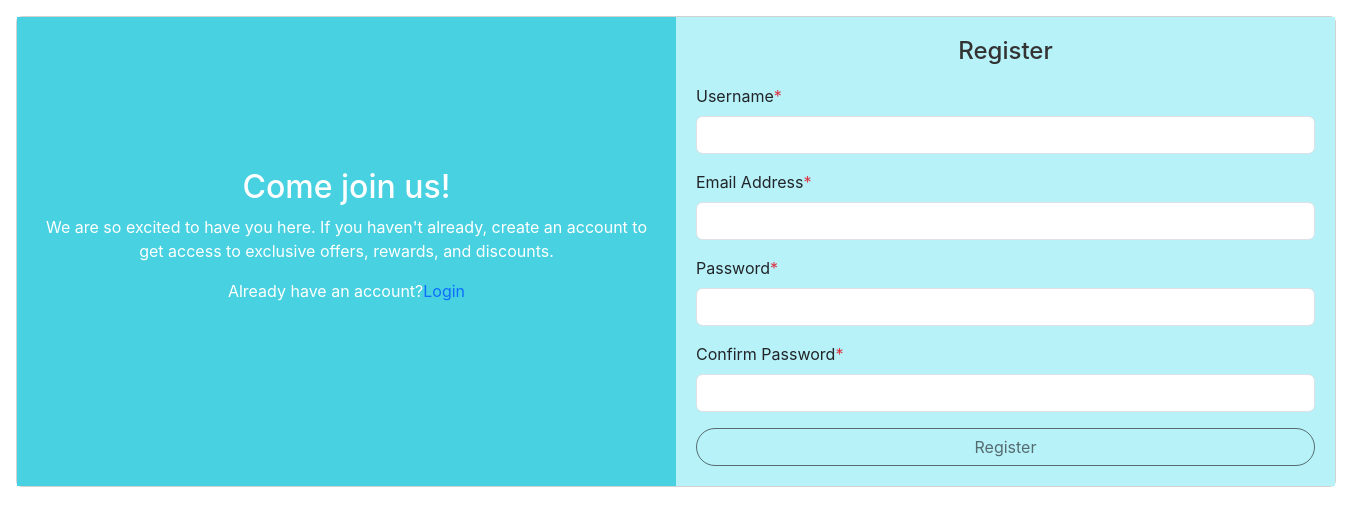
Test: Register component › displays error message if passwords do not match
This screenshot has width=1353, height=529.
Type "validPassword1" into the password field labelled "Password*". click: (1006, 307)
box: left=696, top=288, right=1315, bottom=326
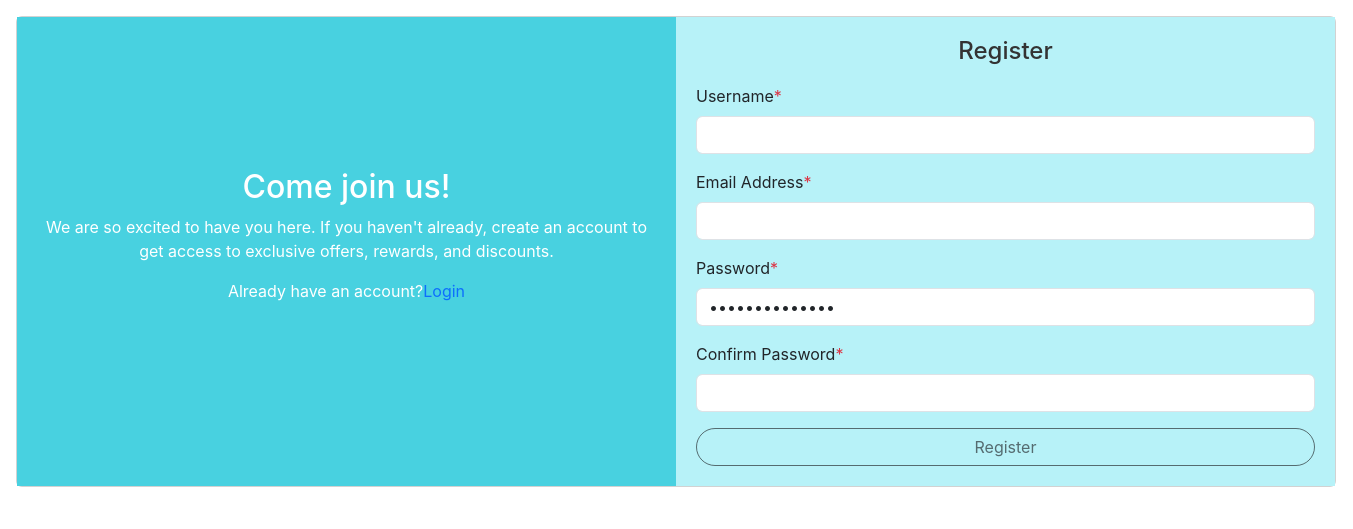
Type "passwordMismatch" into the password field labelled "Confirm Password*". click: (1006, 393)
box: left=696, top=374, right=1315, bottom=412
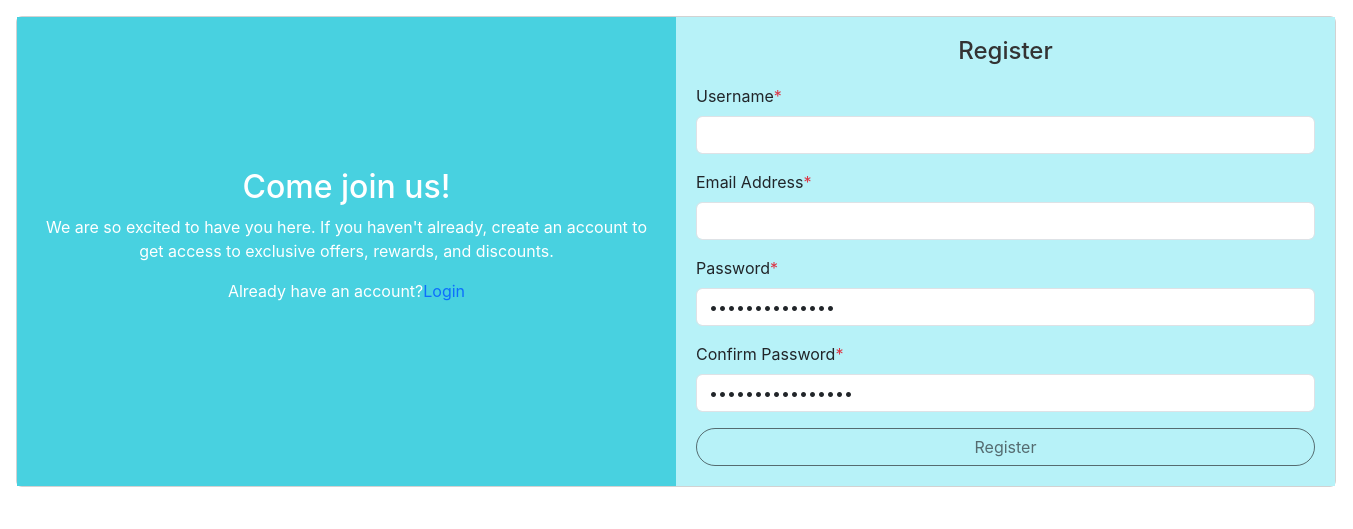
Leave the password field labelled "Confirm Password*", box left=696, top=374, right=1315, bottom=412
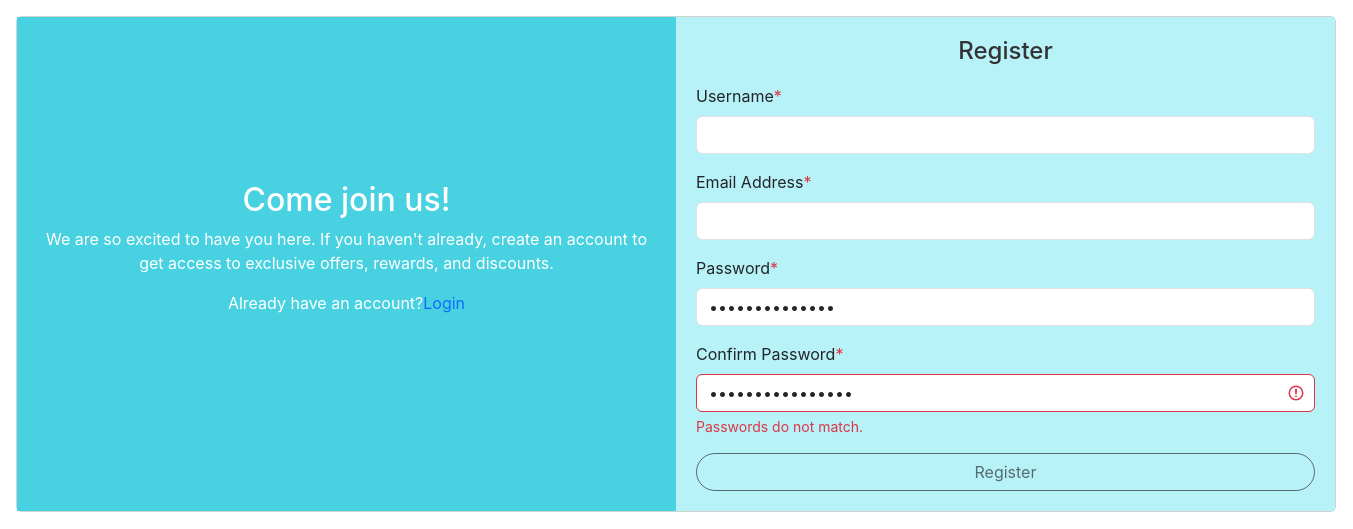
Expected: the text "Passwords do not match." is shown, left=696, top=418, right=863, bottom=435
